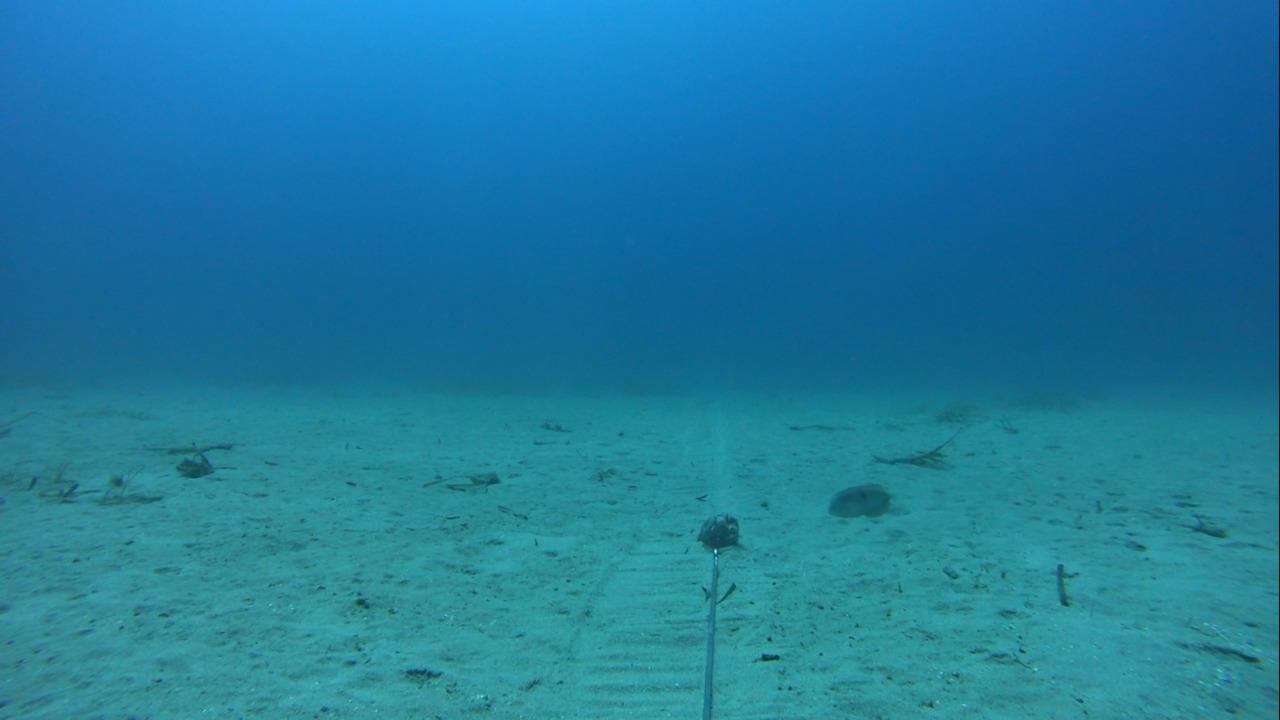raor: (821, 479, 899, 520)
